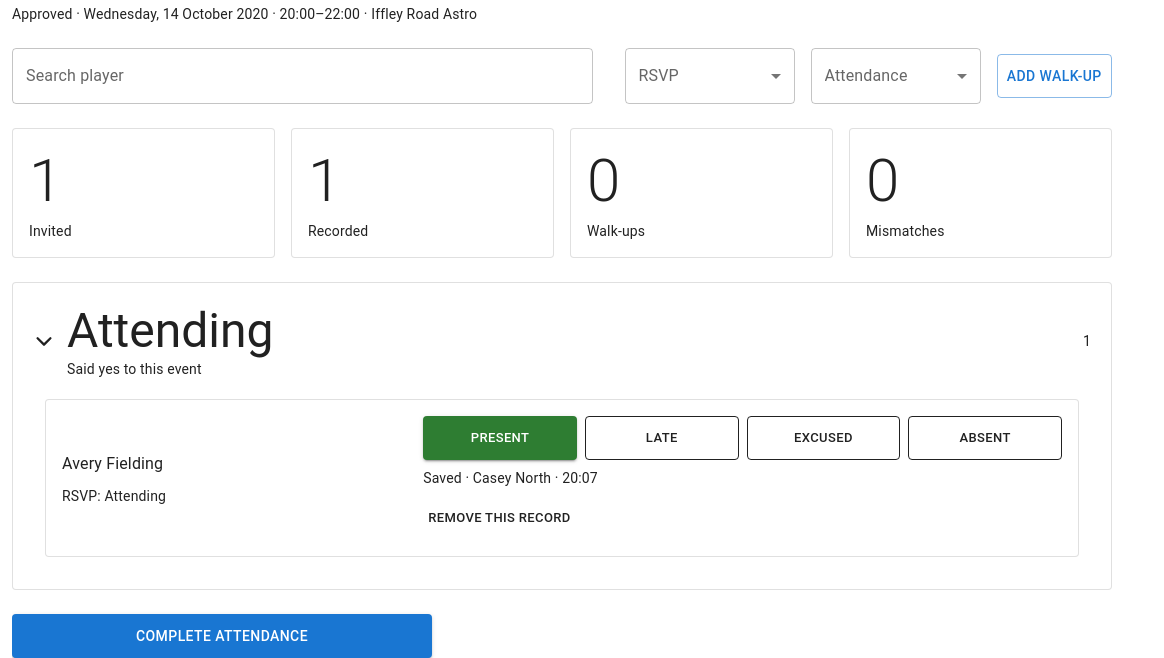
Test case: UX-72 — the attendance board › offers removal on a recorded row, behind a disclosure
(page scrolled)
Click the button with test id "remove-attendance-open": click(499, 518) [423, 496, 576, 540]
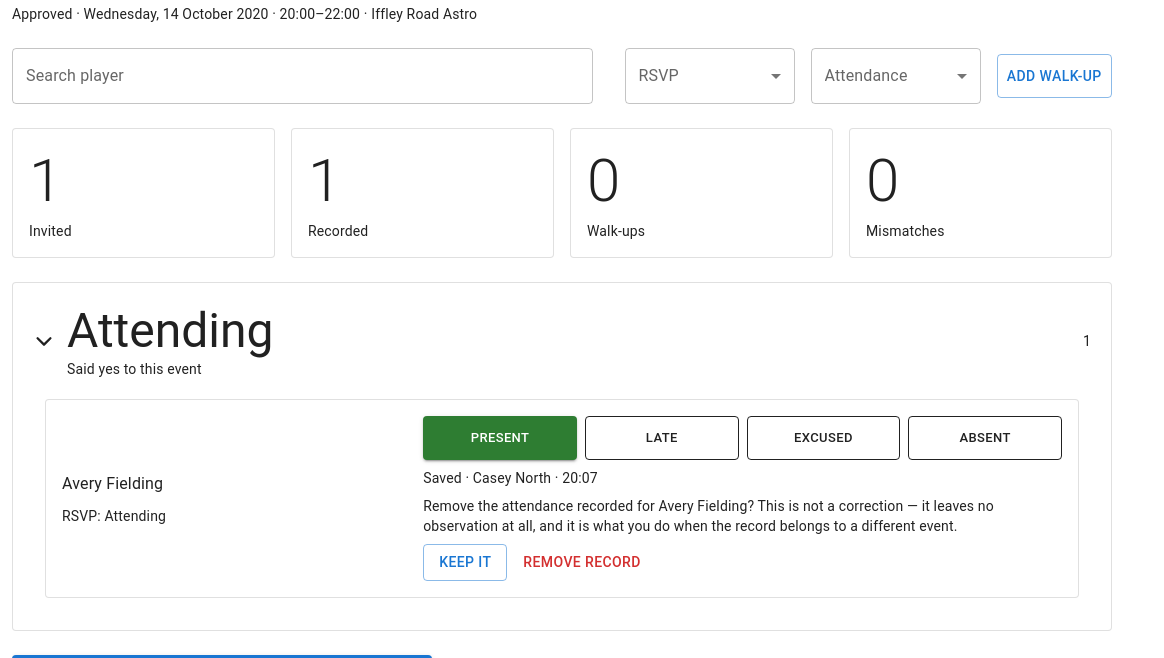
expect the form with test id "remove-attendance-form" is shown: met, box [423, 496, 1062, 581]
expect the button "Remove record" is shown: met, box [515, 544, 649, 581]
expect the button "Keep it" is shown: met, box [423, 544, 507, 581]
